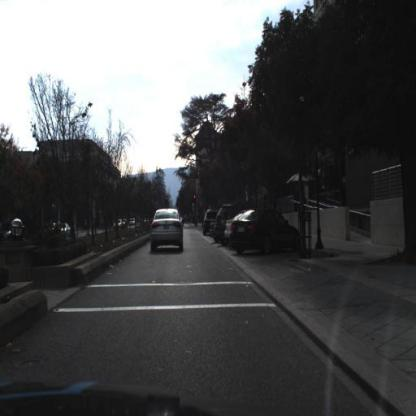car: (228, 206, 301, 256), (230, 204, 300, 255), (145, 201, 187, 258), (214, 201, 242, 246), (213, 202, 230, 238), (201, 207, 213, 243), (223, 212, 236, 245), (57, 220, 71, 238)
